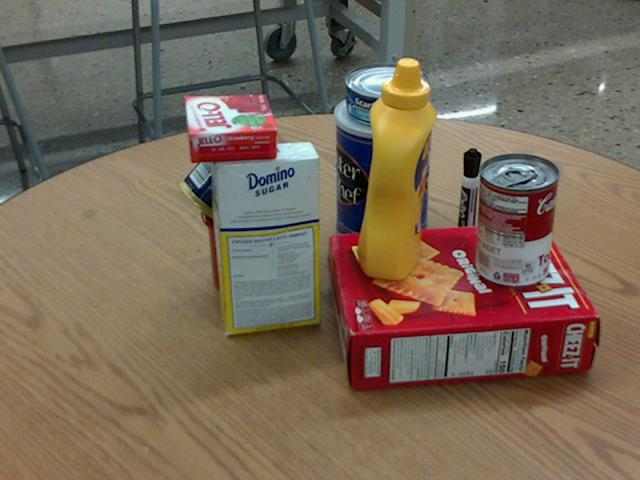cracker_box: (331, 220, 597, 391)
gelatin_box: (185, 92, 276, 162)
large_marker: (455, 148, 480, 256)
master_chef_can: (335, 90, 436, 250)
mug: (198, 185, 293, 296)
mustard_bottle: (357, 56, 436, 280)
potted_meat_can: (177, 118, 312, 248)
sugar_box: (208, 140, 320, 334)
tomato_soup_can: (476, 151, 560, 287)
tuna_fish_can: (345, 62, 429, 125)
